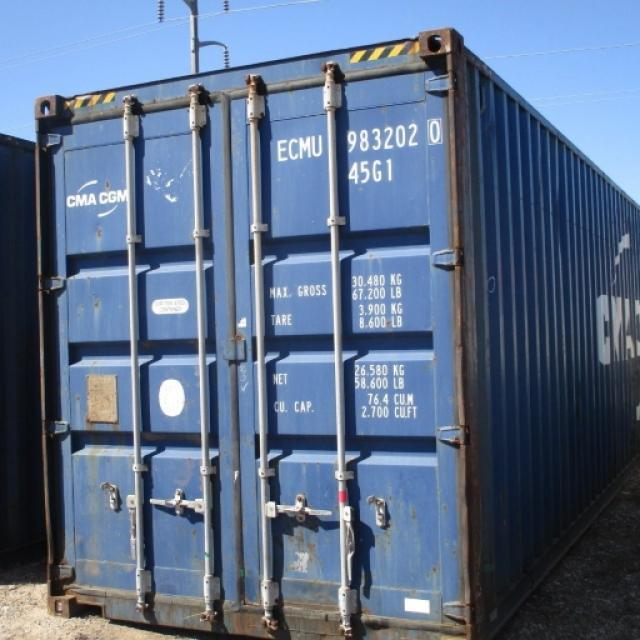ISO: (347, 158, 398, 184)
container_number: (276, 126, 444, 152)
